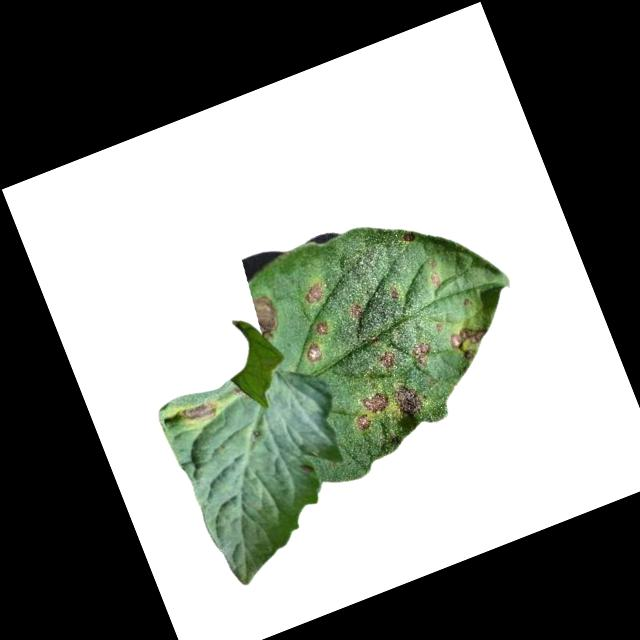Early_blight: (444, 318, 497, 367), (173, 391, 221, 435), (247, 290, 286, 341), (388, 376, 430, 421), (360, 389, 393, 420), (298, 280, 327, 307), (409, 339, 435, 369), (302, 341, 327, 368), (377, 348, 401, 374), (397, 228, 419, 249), (352, 412, 372, 433), (385, 284, 402, 303), (348, 301, 365, 320), (314, 320, 332, 337), (427, 270, 444, 288)
